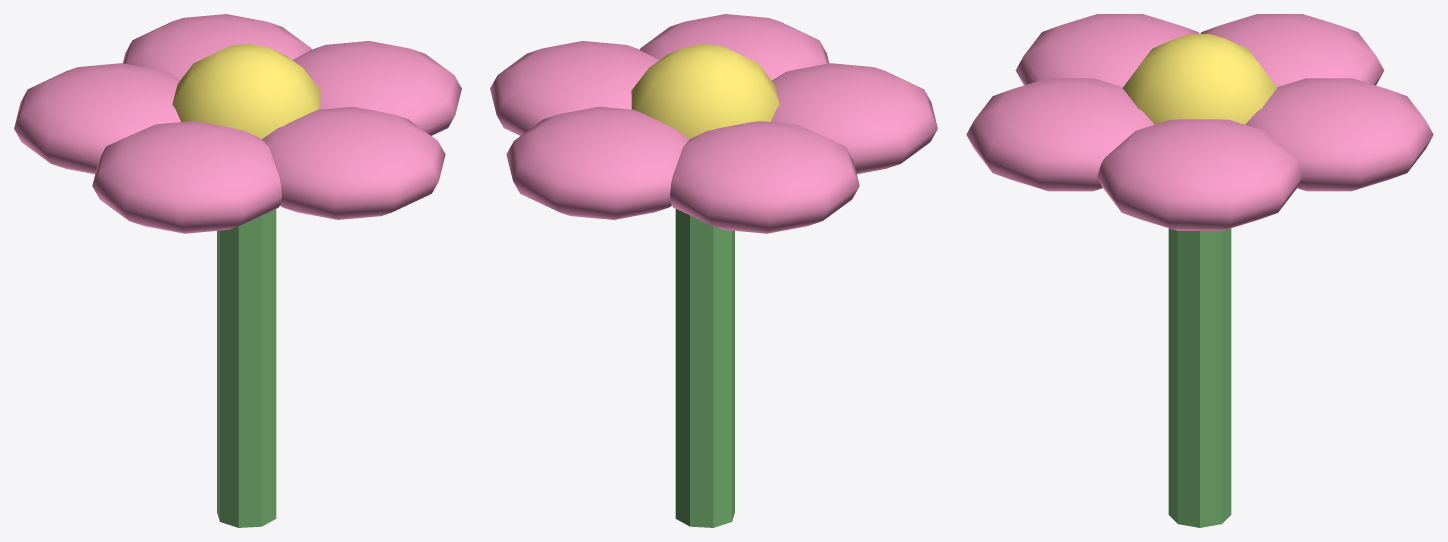
File: flower.glb
The picture shows the model from 3 angles, left to right: view 1: azimuth 30°, elevation 25°; view 2: azimuth 150°, elevation 25°; view 3: azimuth 270°, elevation 25°; orthographic projection. The views are drawn at different scales.
Parts seen in each view (by area): view 1: Flower; view 2: Flower; view 3: Flower.
Part boxes in pixels (x1,y1,x2,y2): Flower: (14, 14, 461, 527); Flower: (490, 14, 937, 527); Flower: (966, 14, 1433, 527).
Bounding box in the file's own units: 0.4254 × 0.5 × 0.4473.
